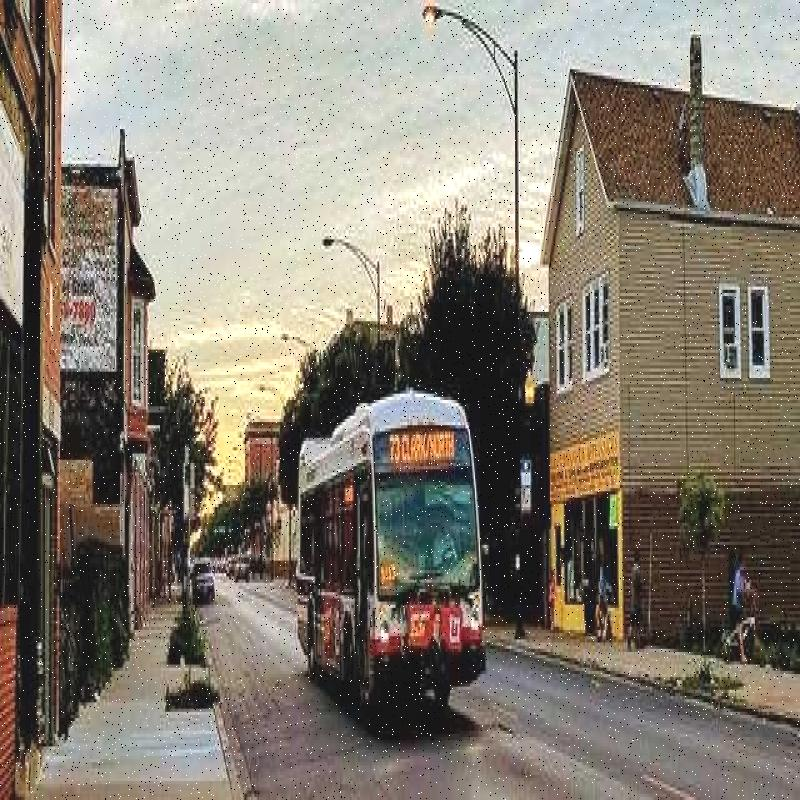bus: (280, 367, 502, 756)
